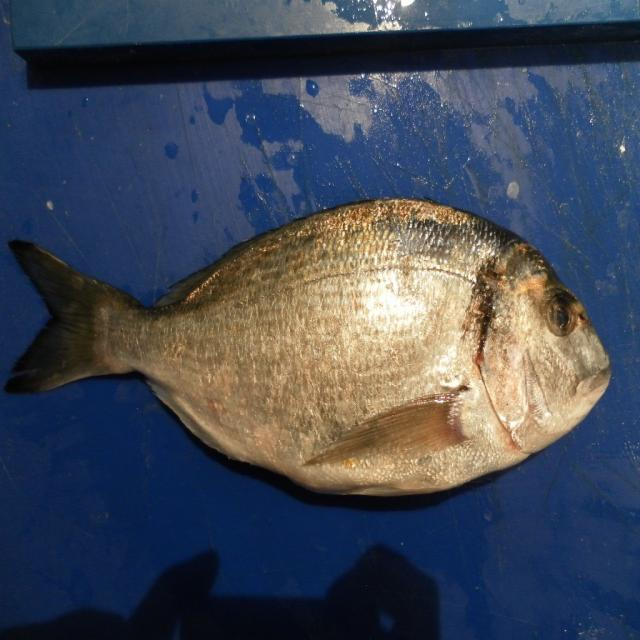Gilt-Head-Bream-c-ipura-: (1, 198, 612, 503)
